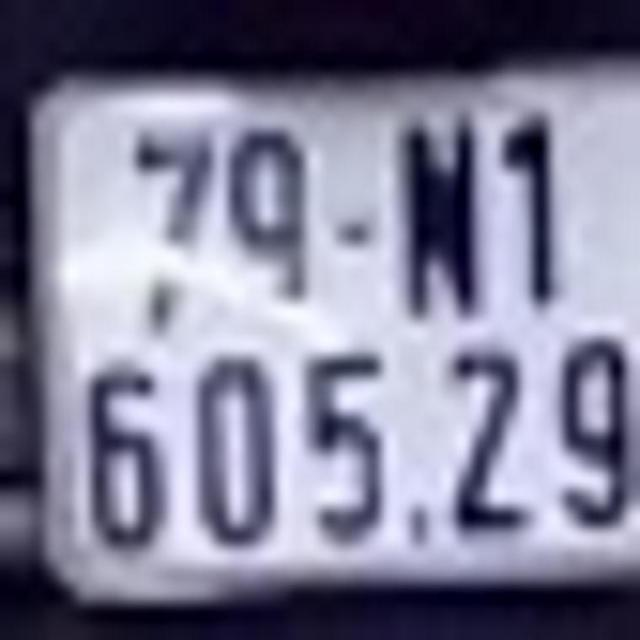0: (191, 363, 284, 560)
1: (502, 114, 564, 317)
2: (448, 341, 541, 538)
5: (300, 345, 396, 552)
6: (79, 360, 171, 558)
7: (131, 133, 212, 354)
9: (549, 332, 634, 546), (229, 113, 309, 338)
N: (404, 116, 484, 328)
